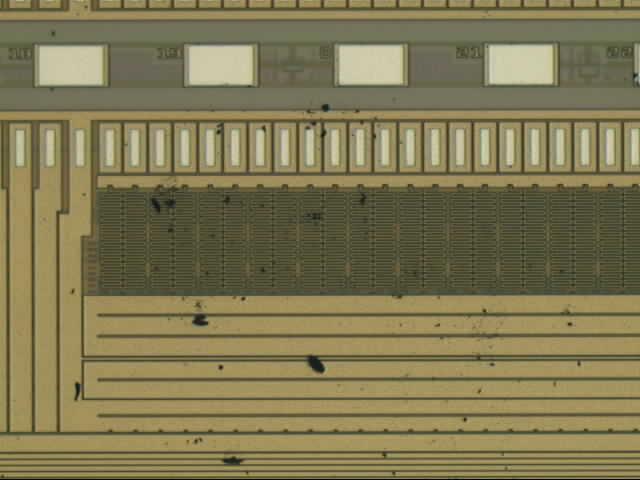PO CONTAMINATION: (64, 100, 590, 480)
